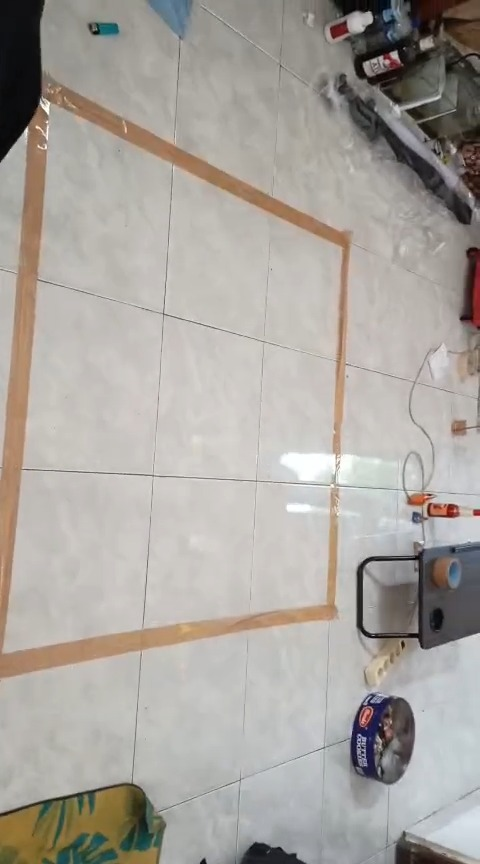floor marking: (0, 76, 349, 677)
